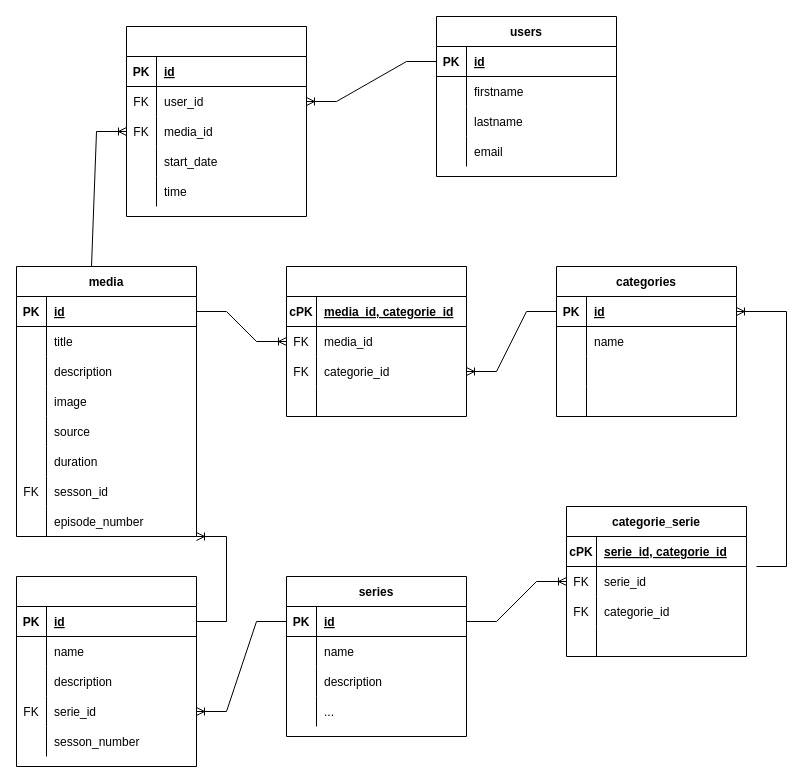
This 803x783 diagram has some shape labels left out. Here are the shapes that lost their labels. From the top down, the box of each, then its label:
(126, 26, 306, 216): media_user
(286, 266, 466, 416): categorie_media
(16, 576, 196, 766): sessons
